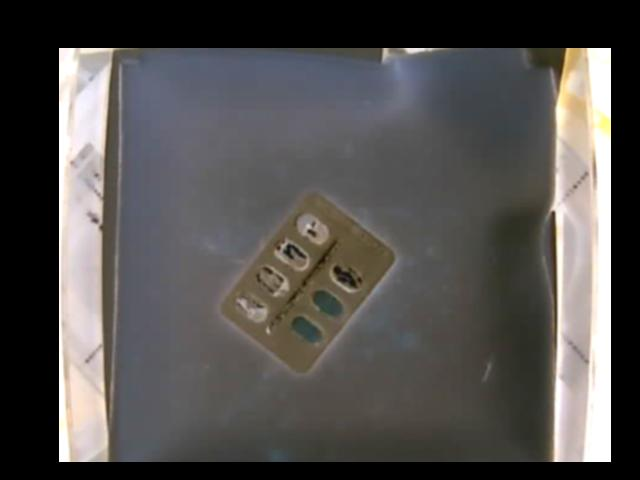Medicine: (222, 181, 397, 374)
